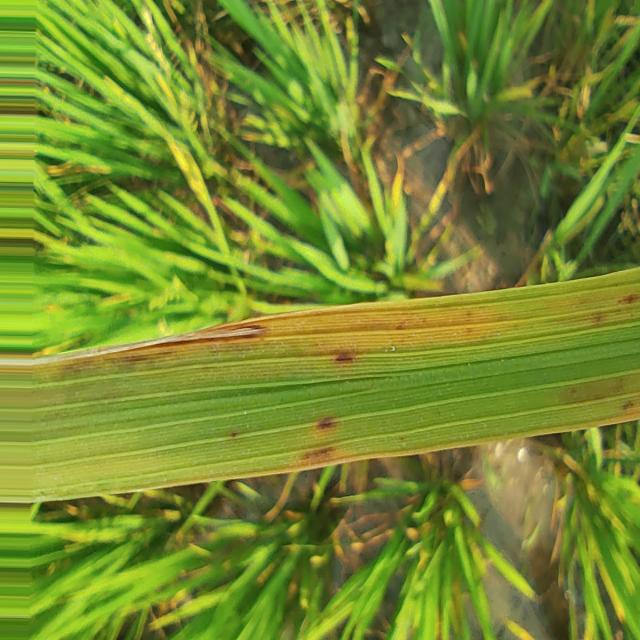Brown_Spot: (310, 447, 339, 467), (316, 417, 338, 431), (335, 352, 356, 365), (618, 293, 640, 305), (592, 313, 606, 324), (621, 400, 632, 412), (230, 432, 241, 440)
